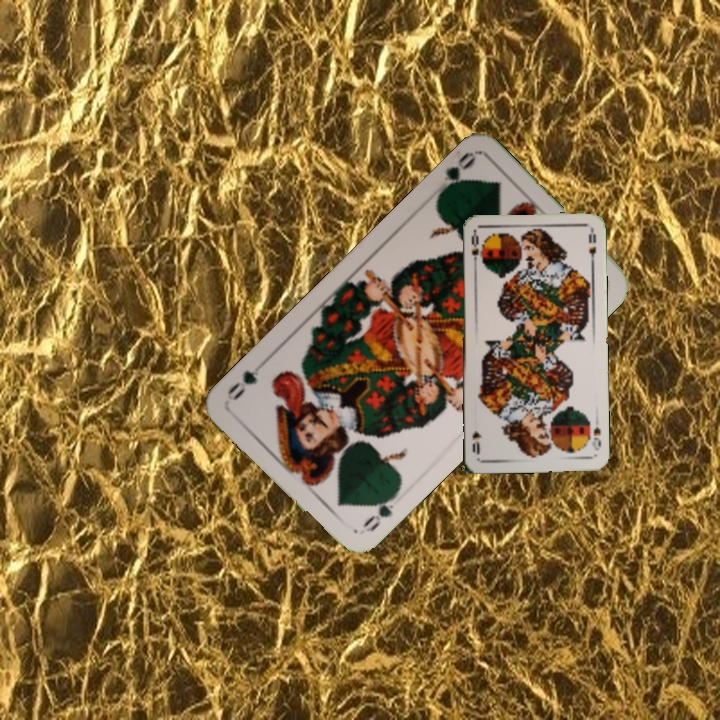GO: (433, 148, 478, 200), (358, 488, 400, 535)
SO: (467, 228, 481, 269), (588, 422, 604, 453)
